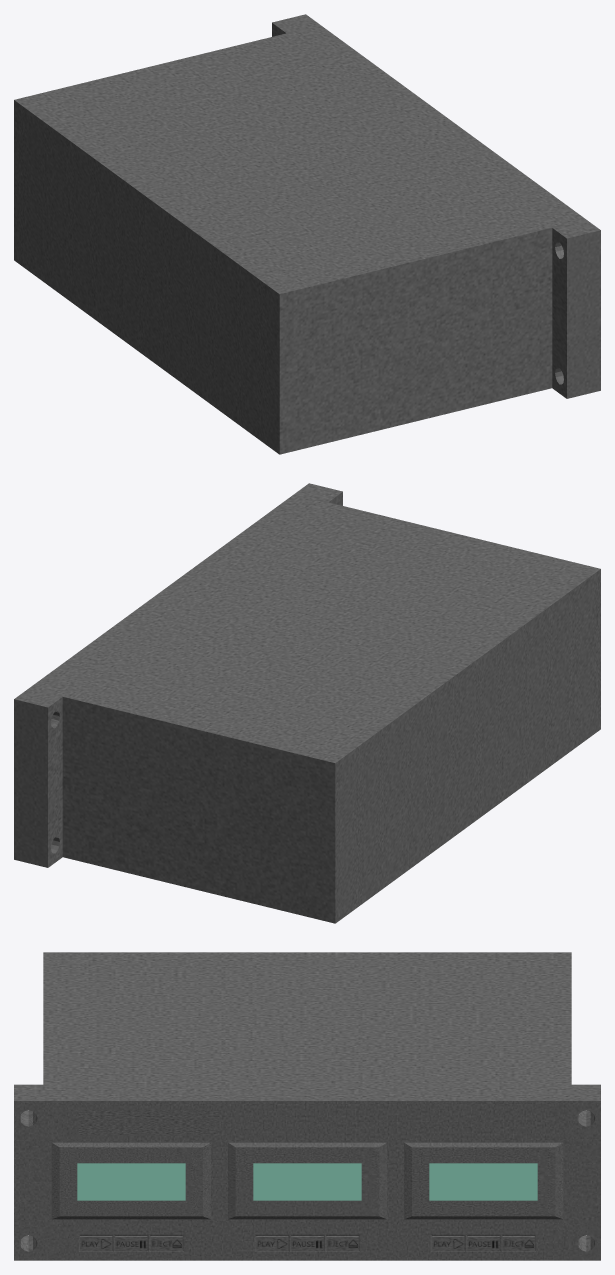
The model's file is odtwarzacz.fbx.
3 renders of one model, top to bottom at view 1: azimuth 30°, elevation 25°; view 2: azimuth 150°, elevation 25°; view 3: azimuth 270°, elevation 25°, orthographic.
Visible parts, largest first — view 1: odtwarzacz; view 2: odtwarzacz; view 3: odtwarzacz, pokrywka_l, pokrywka_p, pokrywka_s, pause_s, eject_l, eject_p, eject_s, pause_l, pause_p, play_l, play_p (+1 smaller).
Boxes of the visible parts, left/top/right/bottom form: odtwarzacz: left=14, top=14, right=600, bottom=454; odtwarzacz: left=14, top=483, right=600, bottom=923; odtwarzacz: left=14, top=952, right=600, bottom=1260; pokrywka_l: left=51, top=1142, right=210, bottom=1219; pokrywka_p: left=404, top=1142, right=563, bottom=1219; pokrywka_s: left=228, top=1142, right=386, bottom=1219; pause_s: left=291, top=1237, right=323, bottom=1251; eject_l: left=150, top=1237, right=182, bottom=1251; eject_p: left=502, top=1237, right=534, bottom=1251; eject_s: left=326, top=1237, right=358, bottom=1251; pause_l: left=115, top=1237, right=147, bottom=1251; pause_p: left=467, top=1237, right=499, bottom=1251; play_l: left=80, top=1237, right=112, bottom=1251; play_p: left=432, top=1237, right=464, bottom=1251.
Size of the model in its own units: 90.6 by 45 by 150.
Materials: 2 (1 with a texture image).
